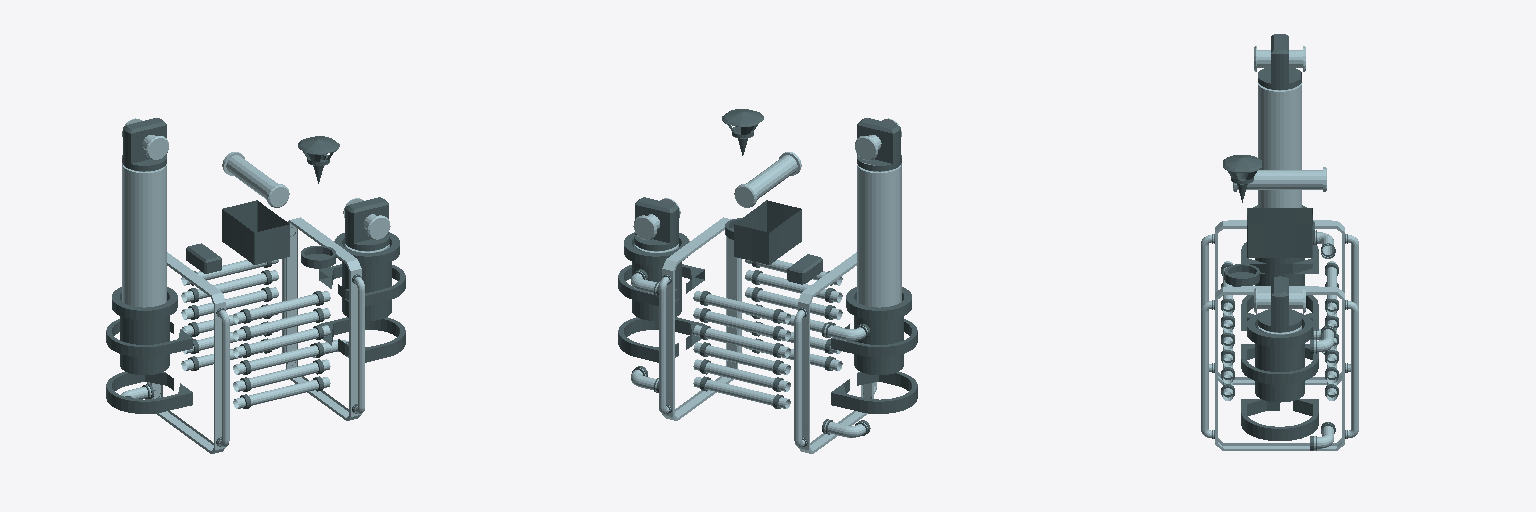
3 views of the same model, side by side, from view 1: azimuth 30°, elevation 25°; view 2: azimuth 150°, elevation 25°; view 3: azimuth 270°, elevation 25° (orthographic).
Visible parts, largest first — view 1: fant_streamengine_Cube.004; view 2: fant_streamengine_Cube.004; view 3: fant_streamengine_Cube.004.
Boxes of the visible parts, <box> form: fant_streamengine_Cube.004: <box>106,118,405,453</box>; fant_streamengine_Cube.004: <box>618,109,917,453</box>; fant_streamengine_Cube.004: <box>1201,34,1358,450</box>.
Size of the model in its own units: 7 by 7.39 by 3.32.
1 materials, 1 textured.